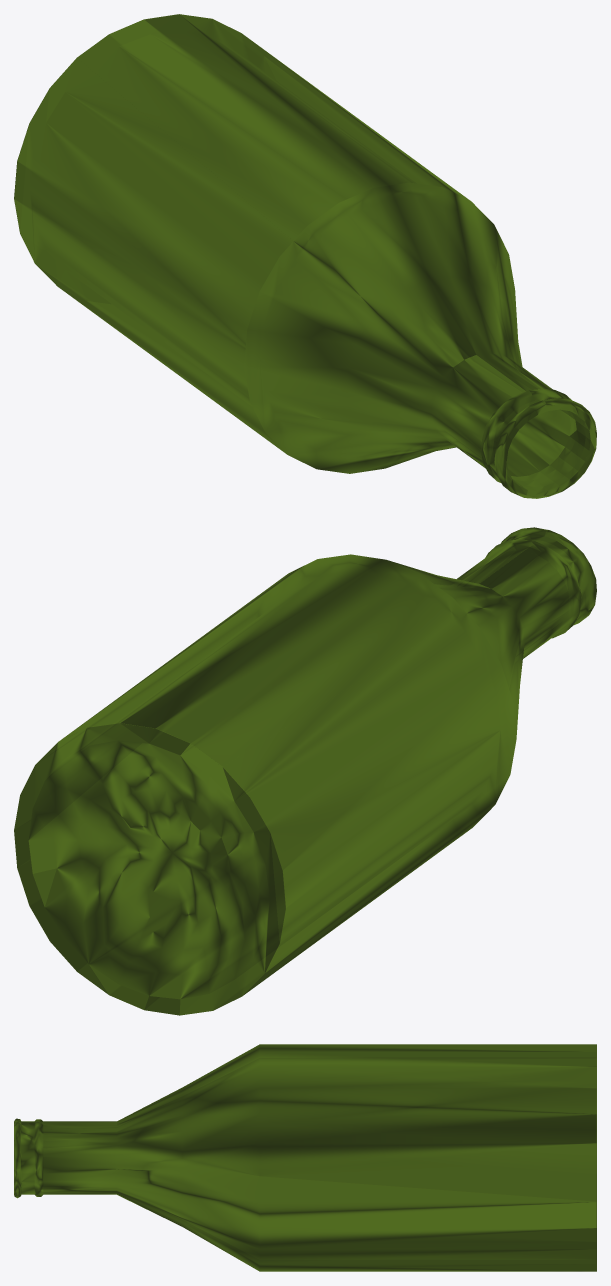
File: model_align.obj
3 views of the same model, one above another, from view 1: azimuth 30°, elevation 25°; view 2: azimuth 150°, elevation 25°; view 3: azimuth 270°, elevation 25° (orthographic). The views are drawn at different scales.
Bounding box in the file's own units: 0.0951 × 0.0951 × 0.2418.
